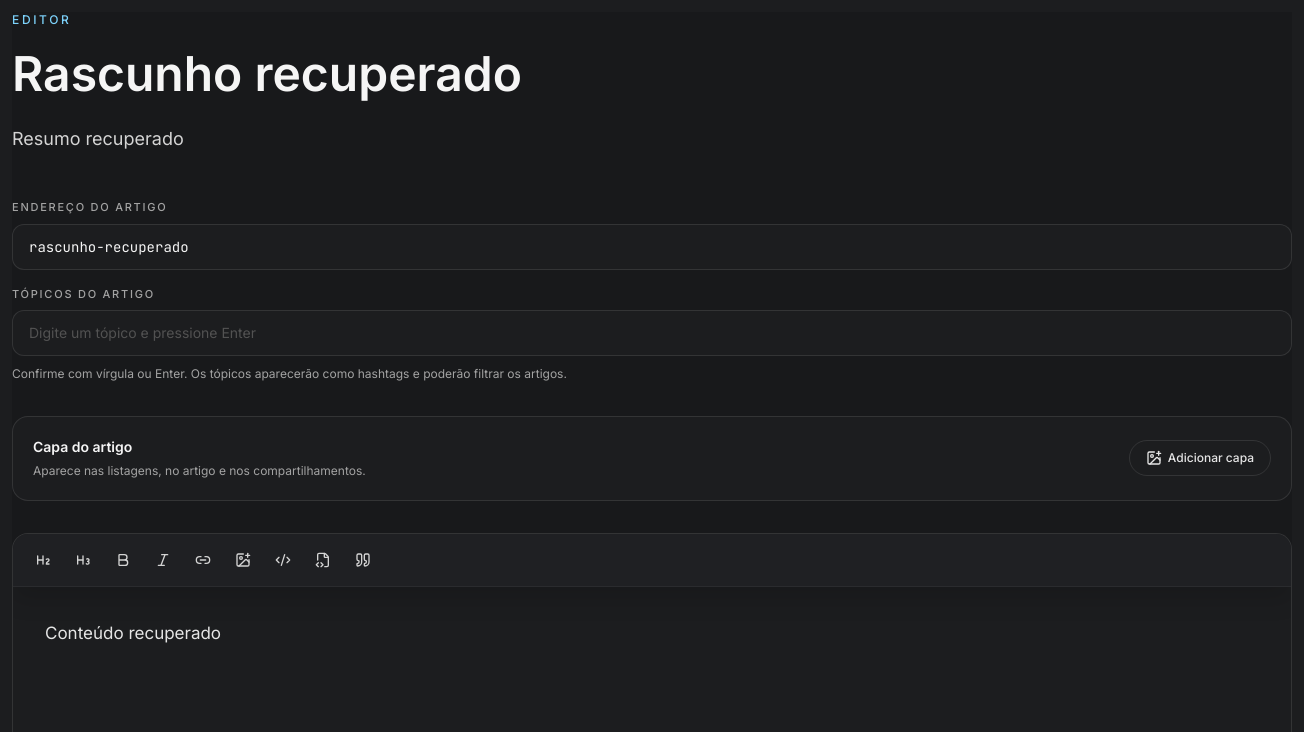
Test: autosave do rascunho administrativo › salva os tópicos inseridos no editor como nomes de tags
Type "#NestJS, TypeScript" into the field labelled "Tópicos do artigo" at (652,333), box x1=12 y1=310 x2=1292 y2=356
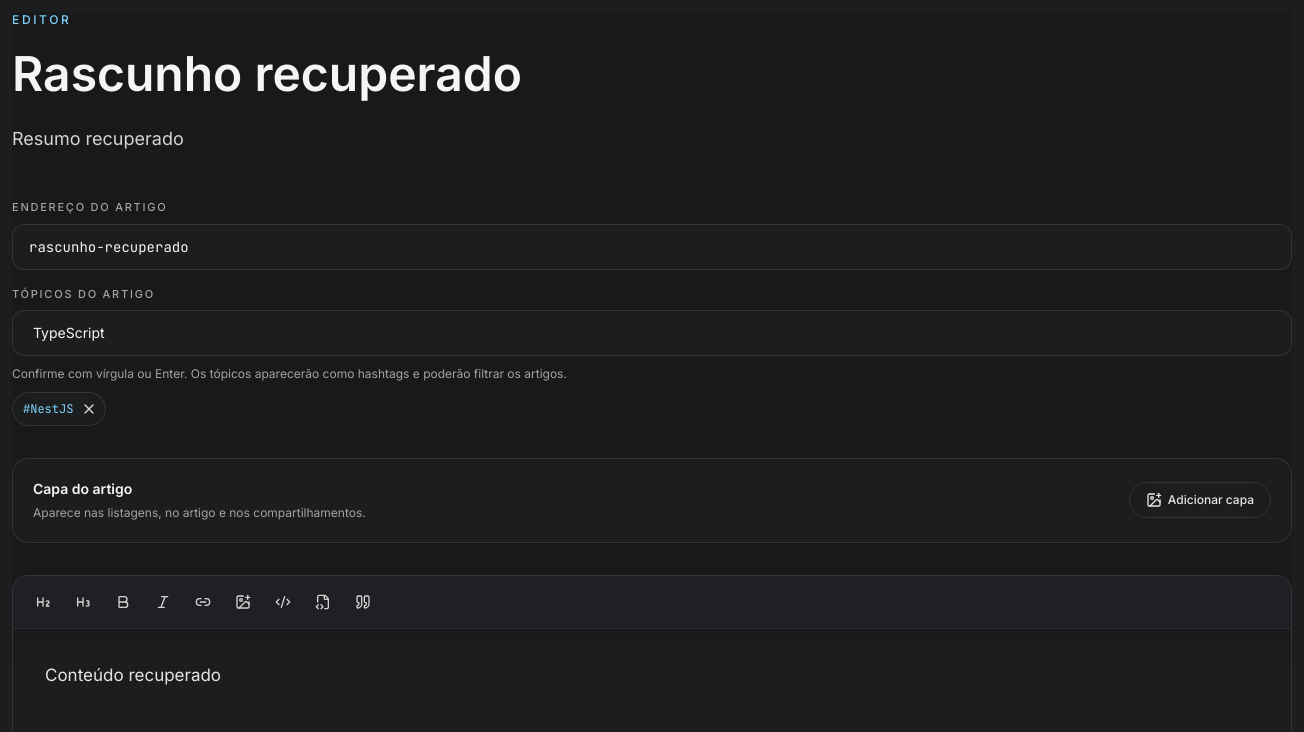
Leave the field labelled "Tópicos do artigo", box x1=12 y1=310 x2=1292 y2=356
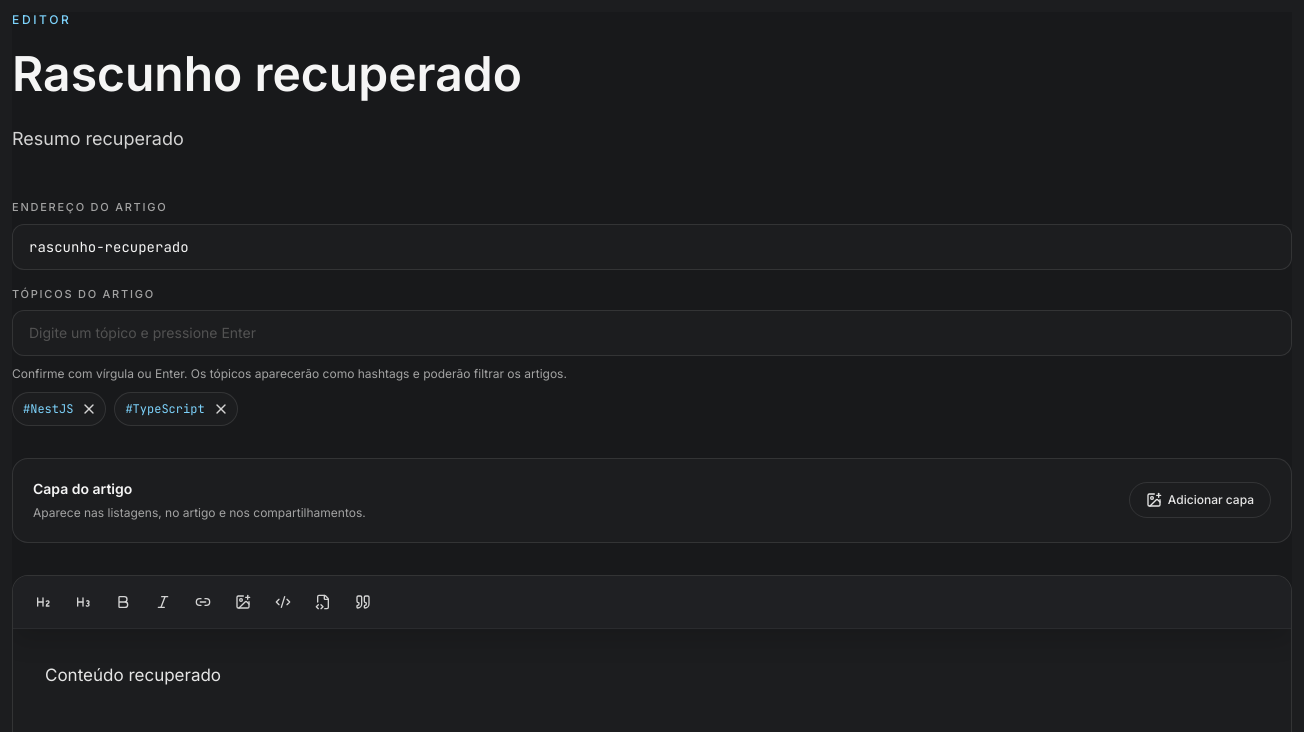
Result: the text "#NestJS" is shown at x1=23 y1=400 x2=73 y2=416
Result: the text "#TypeScript" is shown at x1=125 y1=400 x2=205 y2=416
